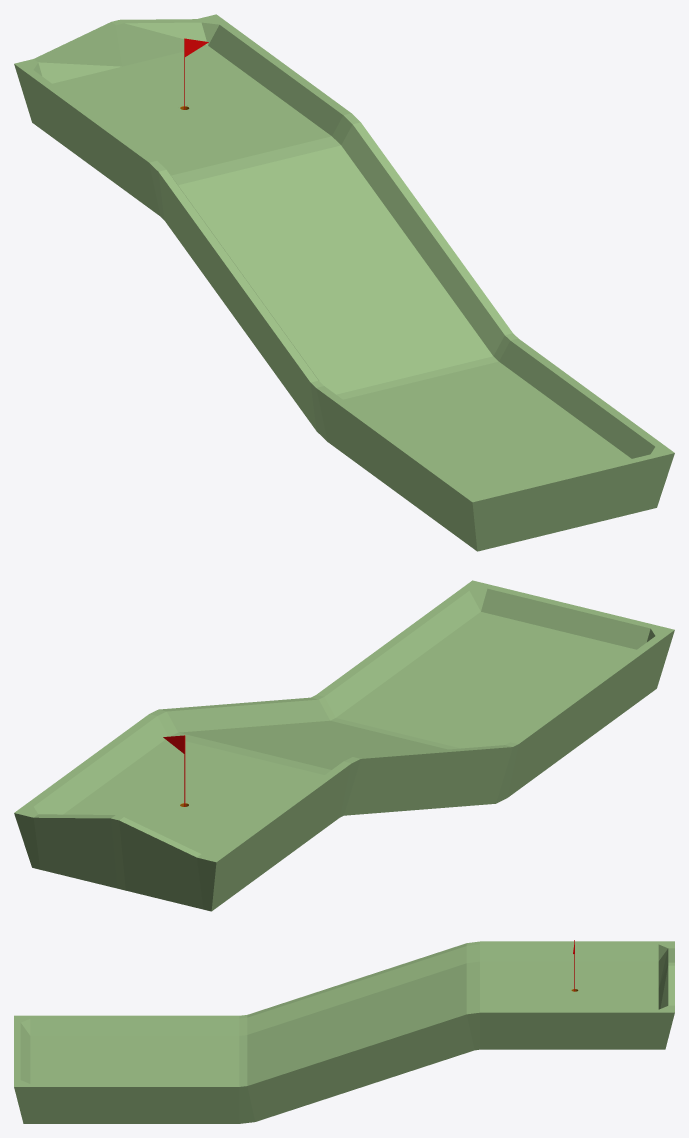
File: level_2.glb
3 views of the same model, one above another, from view 1: azimuth 30°, elevation 25°; view 2: azimuth 150°, elevation 25°; view 3: azimuth 270°, elevation 25° (orthographic). The views are drawn at different scales.
Parts seen in each view (by area): view 1: green; view 2: green; view 3: green.
Boxes of the visible parts, x1=… form: green: x1=14, y1=14, x2=674, y2=551; green: x1=14, y1=580, x2=674, y2=911; green: x1=14, y1=941, x2=674, y2=1123.
Bounding box in the file's own units: 2.48 × 2.47 × 9.73.
